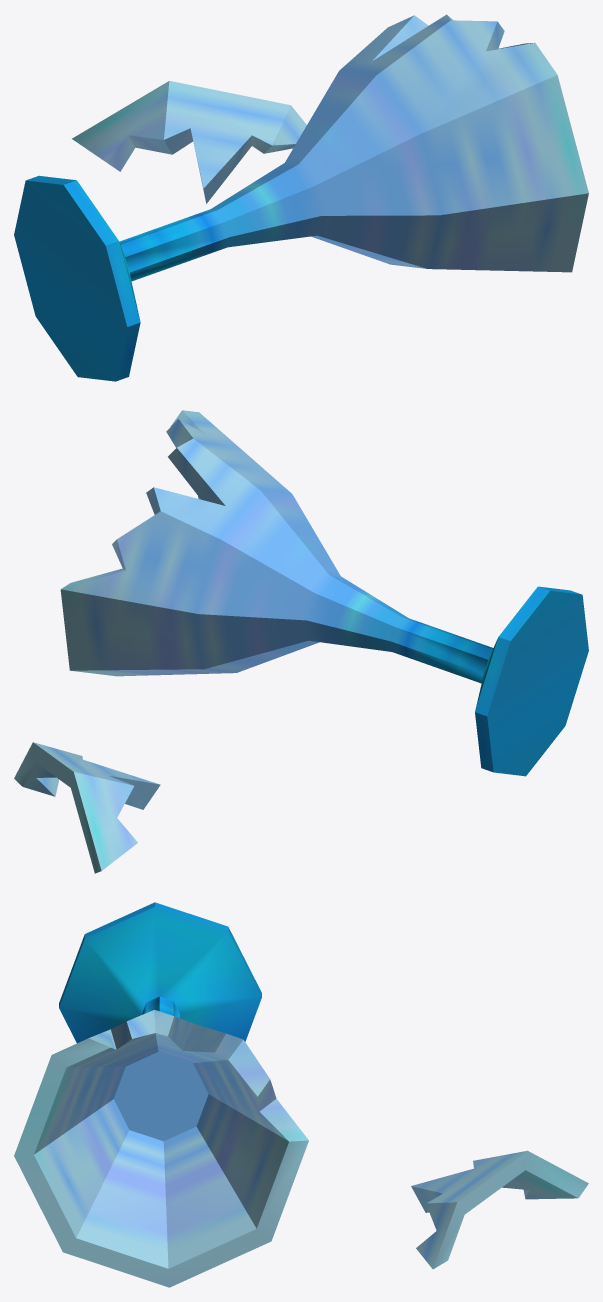
The model's file is brokenGlass.glb.
The picture shows the model from 3 angles, top to bottom: view 1: azimuth 30°, elevation 25°; view 2: azimuth 150°, elevation 25°; view 3: azimuth 270°, elevation 25°; orthographic projection. The views are drawn at different scales.
Visible parts, largest first — view 1: brokenGlass; view 2: brokenGlass; view 3: brokenGlass.
Boxes of the visible parts, x1,y1,x2,y2 form: brokenGlass: [14, 14, 588, 381]; brokenGlass: [14, 410, 588, 873]; brokenGlass: [14, 902, 588, 1287].
Size of the model in its own units: 1.19 by 0.6847 by 1.41.
Materials: 1 (1 with a texture image).
